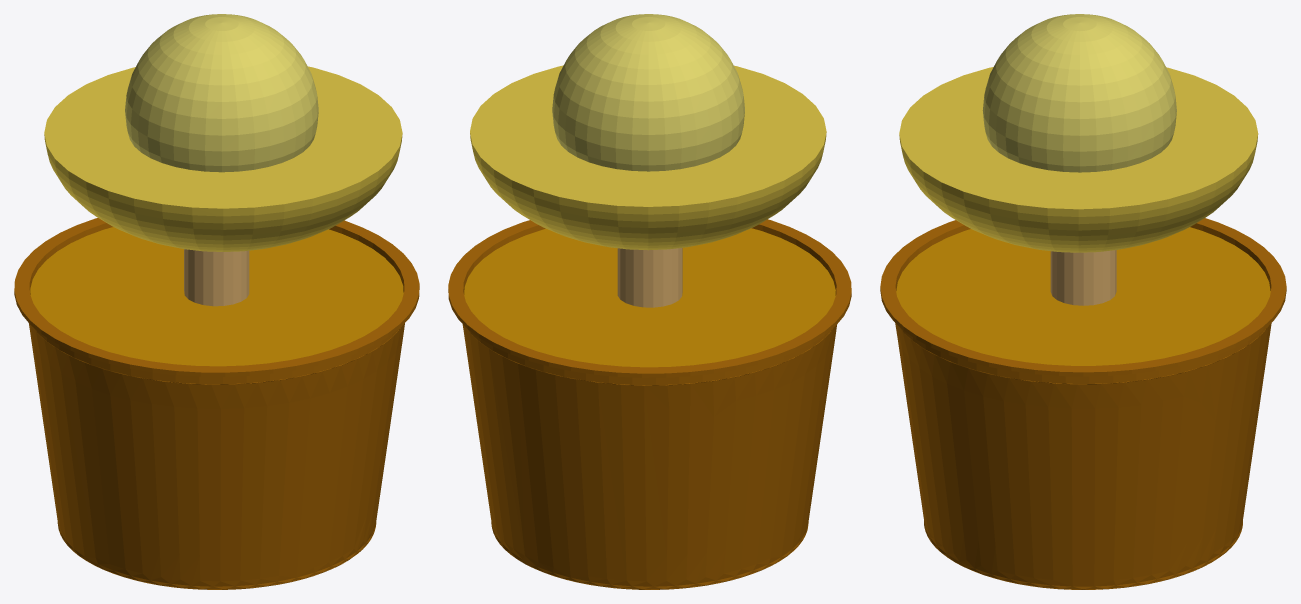
The model's file is plantmodel.glb.
3 renders of one model, left to right at view 1: azimuth 30°, elevation 25°; view 2: azimuth 150°, elevation 25°; view 3: azimuth 270°, elevation 25°, orthographic.
Parts seen in each view (by area): view 1: Mesh_Mesh_head_geo.001_lambert2SG.001; view 2: Mesh_Mesh_head_geo.001_lambert2SG.001; view 3: Mesh_Mesh_head_geo.001_lambert2SG.001.
Part boxes in pixels (left/top/right/bottom): Mesh_Mesh_head_geo.001_lambert2SG.001: left=14, top=14, right=419, bottom=589; Mesh_Mesh_head_geo.001_lambert2SG.001: left=448, top=14, right=851, bottom=589; Mesh_Mesh_head_geo.001_lambert2SG.001: left=880, top=14, right=1286, bottom=589.
Bounding box in the file's own units: 43 × 58.64 × 43.
